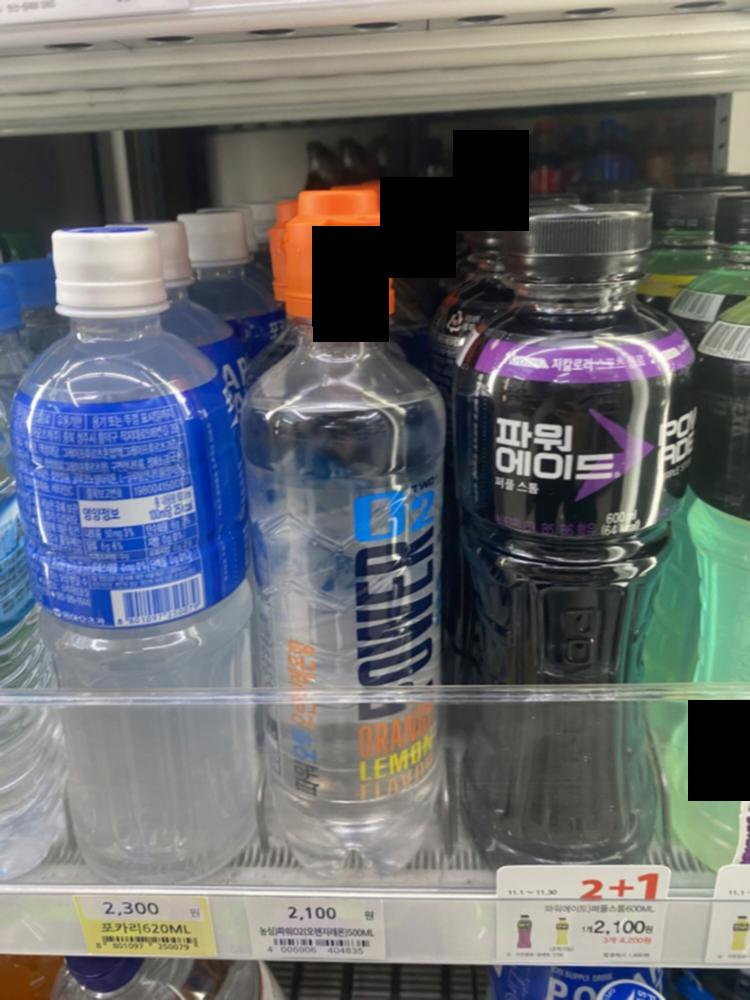pocarisweat: (18, 208, 235, 890)
powerO2_orange: (223, 188, 447, 893)
